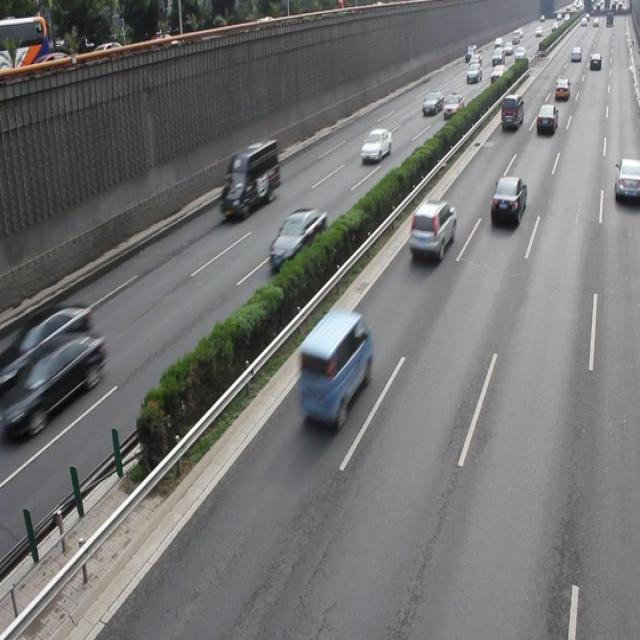car: (13, 331, 108, 428), (299, 307, 372, 429), (1, 304, 94, 386), (268, 205, 327, 270), (407, 198, 456, 262), (488, 174, 526, 227), (612, 155, 640, 205), (360, 127, 390, 163)
truck: (220, 138, 279, 219)
